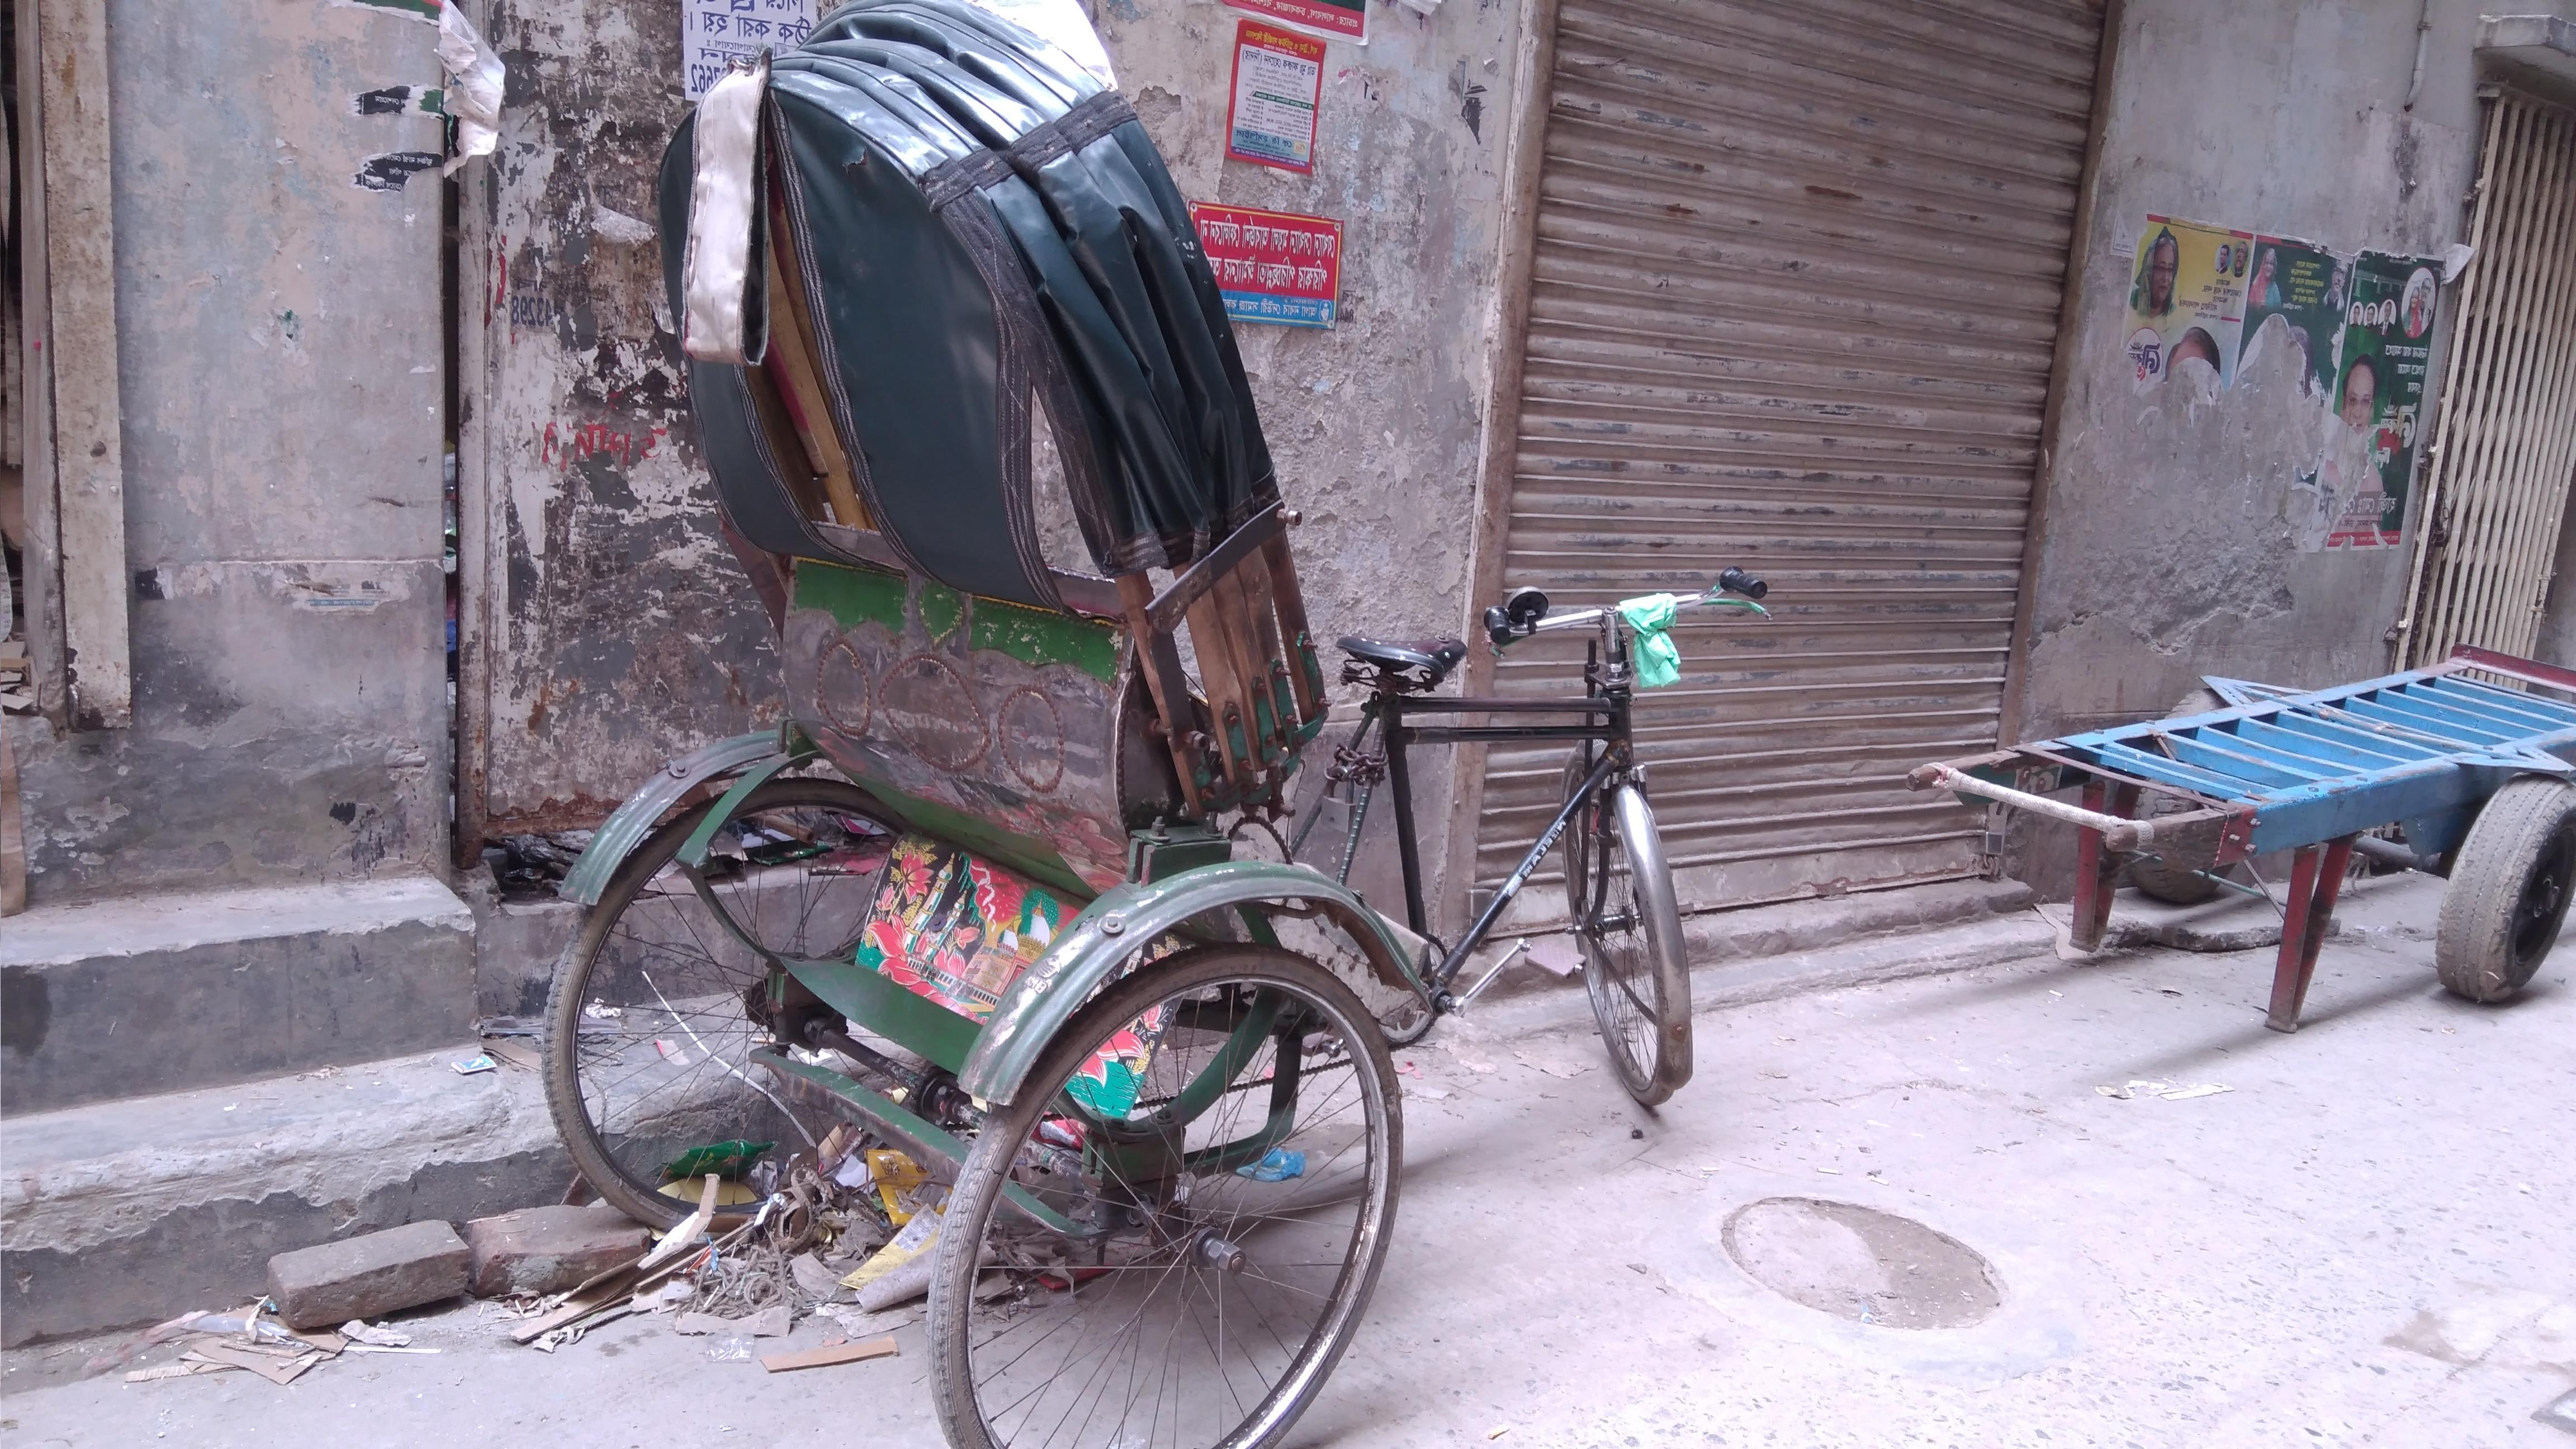Rickshaw: (527, 14, 1729, 1445)
